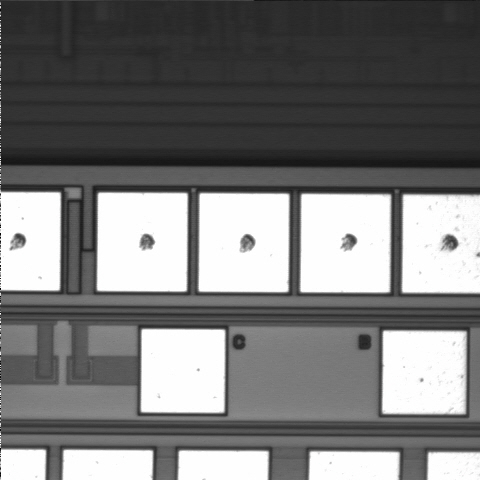pad: (199, 193, 289, 292), (97, 193, 187, 291), (301, 194, 391, 292), (141, 329, 225, 413), (382, 331, 466, 414)
